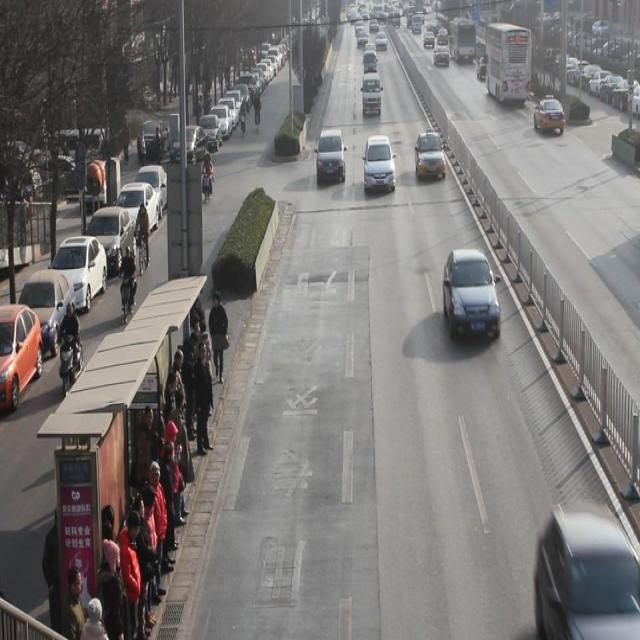car: (443, 249, 500, 342), (364, 136, 396, 193), (317, 128, 346, 186), (414, 133, 446, 181), (533, 99, 565, 136), (476, 57, 493, 80), (434, 44, 449, 70)
truck: (362, 74, 382, 118), (363, 52, 378, 84)
van: (484, 22, 529, 104)
